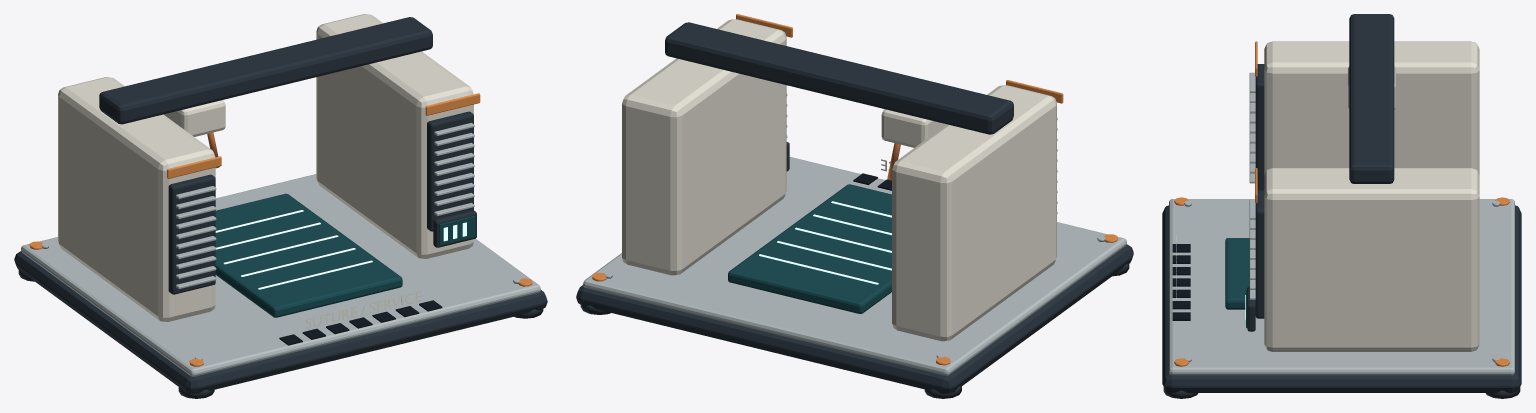
Rendered from workshop.glb.
3 renders of one model, left to right at view 1: azimuth 30°, elevation 25°; view 2: azimuth 150°, elevation 25°; view 3: azimuth 270°, elevation 25°, orthographic. The views are drawn at different scales.
Parts seen in each view (by area): view 1: workshop_ROOT__01_Ivory_ceramic, workshop_ROOT__07_Machined_titanium, workshop_ROOT__02_Graphite_chassis, workshop_ROOT__09_Instrument_glass, workshop_ROOT__status_light, workshop_ROOT__06_Mission_orange, Work_service_head__01_Ivory_ceramic, workshop_ROOT__03_Carbon_seals; view 2: workshop_ROOT__01_Ivory_ceramic, workshop_ROOT__07_Machined_titanium, workshop_ROOT__02_Graphite_chassis, workshop_ROOT__09_Instrument_glass, Work_service_head__01_Ivory_ceramic, workshop_ROOT__status_light, workshop_ROOT__06_Mission_orange; view 3: workshop_ROOT__01_Ivory_ceramic, workshop_ROOT__07_Machined_titanium, workshop_ROOT__02_Graphite_chassis, workshop_ROOT__09_Instrument_glass, workshop_ROOT__03_Carbon_seals, workshop_ROOT__06_Mission_orange.
Boxes of the visible parts, x1,y1,x2,y2 form: workshop_ROOT__01_Ivory_ceramic: (58,14,473,328); workshop_ROOT__07_Machined_titanium: (21,123,540,376); workshop_ROOT__02_Graphite_chassis: (14,17,547,398); workshop_ROOT__09_Instrument_glass: (215,193,475,317); workshop_ROOT__status_light: (215,210,466,289); workshop_ROOT__06_Mission_orange: (29,93,532,366); Work_service_head__01_Ivory_ceramic: (164,100,225,136); workshop_ROOT__03_Carbon_seals: (279,300,442,345); workshop_ROOT__01_Ivory_ceramic: (622,19,1056,341); workshop_ROOT__07_Machined_titanium: (583,93,1126,375); workshop_ROOT__02_Graphite_chassis: (576,22,1133,398); workshop_ROOT__09_Instrument_glass: (728,184,891,313); Work_service_head__01_Ivory_ceramic: (881,109,946,147); workshop_ROOT__status_light: (759,201,891,284); workshop_ROOT__06_Mission_orange: (592,14,1117,365); workshop_ROOT__01_Ivory_ceramic: (1176,41,1479,351); workshop_ROOT__07_Machined_titanium: (1169,72,1514,375); workshop_ROOT__02_Graphite_chassis: (1162,14,1521,398); workshop_ROOT__09_Instrument_glass: (1225,238,1249,327); workshop_ROOT__03_Carbon_seals: (1172,244,1190,320); workshop_ROOT__06_Mission_orange: (1174,41,1509,366).
Bounding box in the file's own units: 7 × 4.09 × 6.
